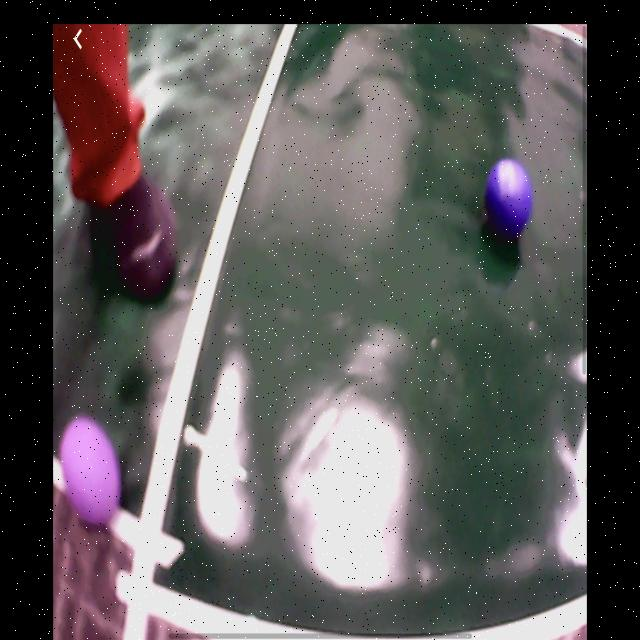ball: (61, 417, 123, 522), (485, 159, 534, 235)
